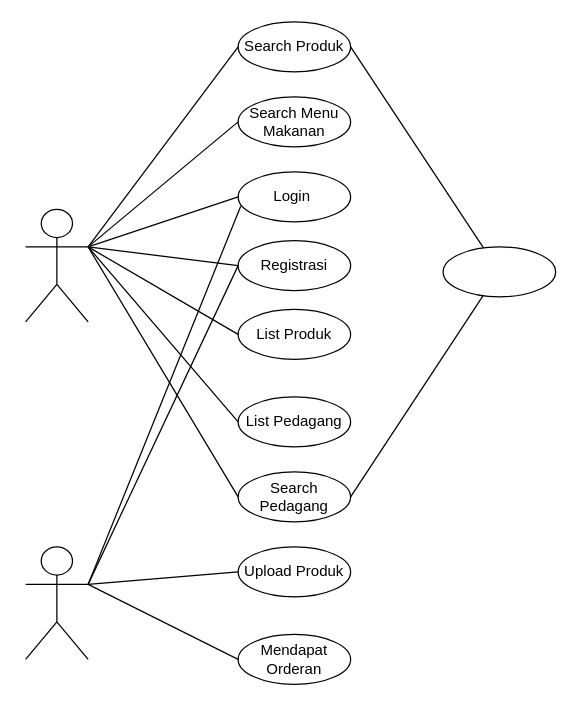
The diagram is 578 pixels wide and 708 high, and some of its shapes have lost their labels. The centre of each missing label's shape, as x and y in pixels:
"Pedagang" goes at (x=56, y=602).
"Pelanggan" goes at (x=56, y=265).
"Pembelian Produk" goes at (x=499, y=271).
